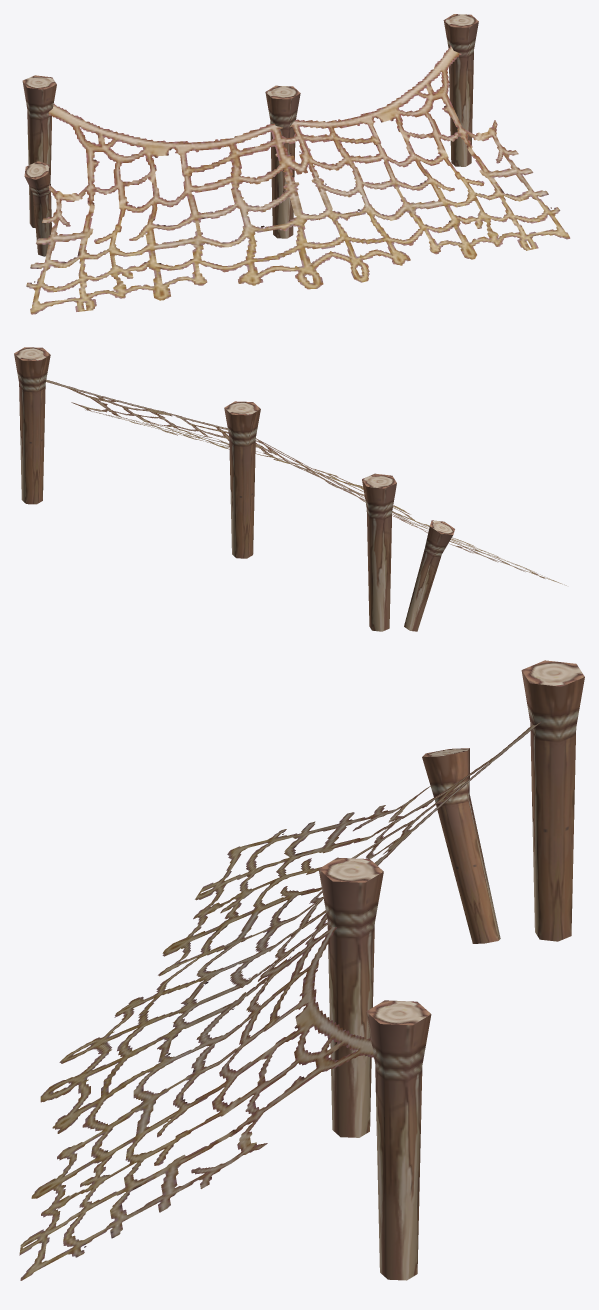
File: Map_05_wooden014.FBX
3 views of the same model, one above another, from view 1: azimuth 30°, elevation 25°; view 2: azimuth 150°, elevation 25°; view 3: azimuth 270°, elevation 25° (orthographic). The views are drawn at different scales.
Parts seen in each view (by area): view 1: Map_05_wooden014b, Map_05_wooden014a; view 2: Map_05_wooden014a, Map_05_wooden014b; view 3: Map_05_wooden014a, Map_05_wooden014b.
Boxes of the visible parts, bbox=[...] form: Map_05_wooden014b: bbox=[26, 45, 570, 314]; Map_05_wooden014a: bbox=[22, 14, 478, 256]; Map_05_wooden014a: bbox=[14, 347, 454, 631]; Map_05_wooden014b: bbox=[44, 379, 566, 585]; Map_05_wooden014a: bbox=[318, 660, 584, 1280]; Map_05_wooden014b: bbox=[19, 721, 541, 1280].
Bounding box in the file's own units: 791 × 233 × 418.
